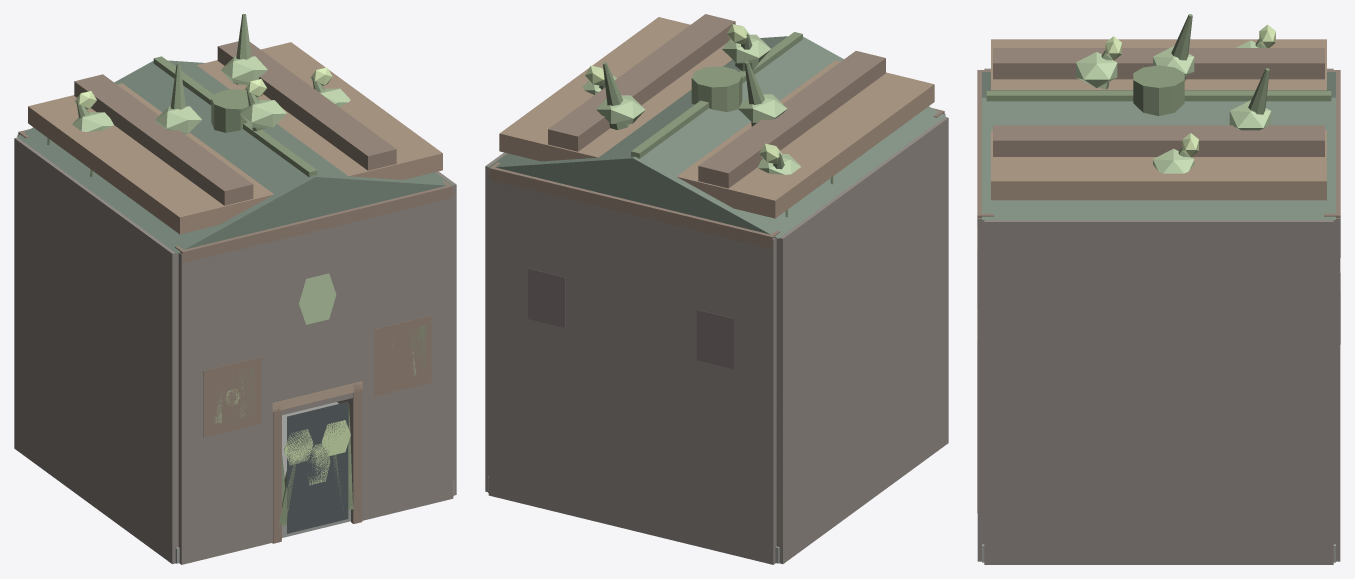
File: gallows_watch_infested.glb
3 renders of one model, left to right at view 1: azimuth 30°, elevation 25°; view 2: azimuth 150°, elevation 25°; view 3: azimuth 270°, elevation 25°, orthographic. The views are drawn at different scales.
Parts seen in each view (by area): view 1: gallows_watch_mat_01, gallows_watch_mat_02, gallows_watch_mat_07, gallows_watch_mat_10, gallows_watch_mat_04, gallows_watch_mat_06, gallows_watch_mat_08, gallows_watch_mat_05, gallows_watch_mat_03, gallows_watch_mat_00; view 2: gallows_watch_mat_01, gallows_watch_mat_07, gallows_watch_mat_10, gallows_watch_mat_02, gallows_watch_mat_06, gallows_watch_mat_09, gallows_watch_mat_08, gallows_watch_mat_05; view 3: gallows_watch_mat_01, gallows_watch_mat_07, gallows_watch_mat_02, gallows_watch_mat_10, gallows_watch_mat_06, gallows_watch_mat_08, gallows_watch_mat_05.
Boxes of the visible parts, box(x1,y1,x2,y2) form: gallows_watch_mat_01: box(14, 134, 456, 564); gallows_watch_mat_02: box(18, 41, 452, 543); gallows_watch_mat_07: box(28, 42, 442, 402); gallows_watch_mat_10: box(17, 60, 453, 253); gallows_watch_mat_04: box(287, 402, 348, 533); gallows_watch_mat_06: box(47, 14, 425, 526); gallows_watch_mat_08: box(72, 56, 416, 423); gallows_watch_mat_05: box(74, 67, 350, 485); gallows_watch_mat_03: box(272, 381, 362, 411); gallows_watch_mat_00: box(175, 402, 454, 563); gallows_watch_mat_01: box(485, 113, 948, 564); gallows_watch_mat_07: box(499, 17, 934, 218); gallows_watch_mat_10: box(488, 36, 945, 238); gallows_watch_mat_02: box(489, 14, 944, 546); gallows_watch_mat_06: box(599, 32, 833, 217); gallows_watch_mat_09: box(528, 268, 733, 368); gallows_watch_mat_08: box(582, 34, 800, 174); gallows_watch_mat_05: box(585, 24, 782, 164); gallows_watch_mat_01: box(977, 68, 1340, 564); gallows_watch_mat_07: box(991, 39, 1326, 200); gallows_watch_mat_02: box(977, 48, 1340, 512); gallows_watch_mat_10: box(982, 72, 1335, 219); gallows_watch_mat_06: box(986, 14, 1331, 157); gallows_watch_mat_08: box(1076, 40, 1271, 173); gallows_watch_mat_05: box(1105, 24, 1275, 157).
Size of the model in its own units: 2.97 by 4.08 by 2.98.
